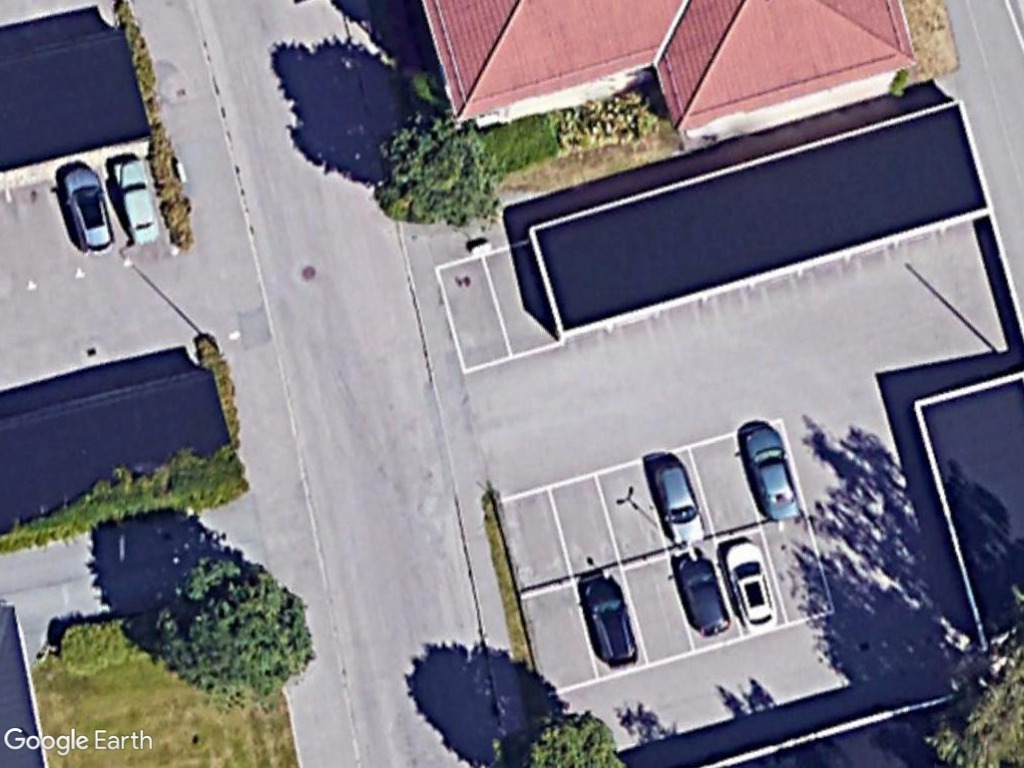car: (573, 567, 643, 672), (738, 419, 804, 528), (57, 159, 127, 260), (645, 451, 709, 555), (721, 535, 781, 640), (108, 150, 166, 253), (669, 548, 732, 641)
